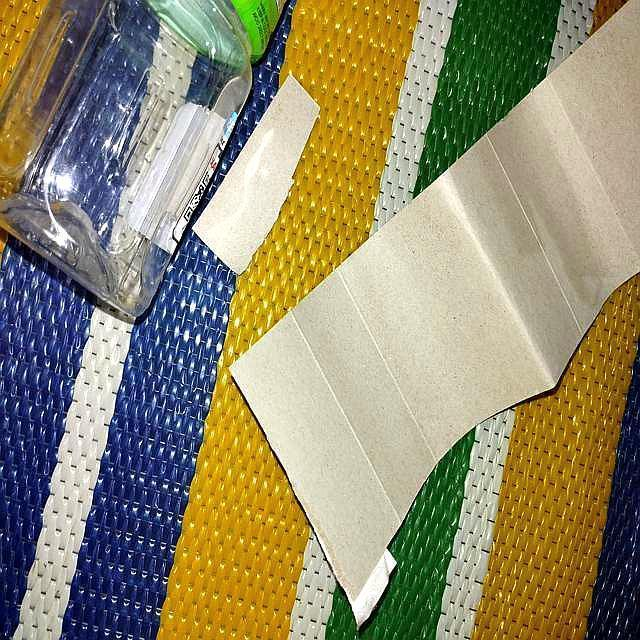Biodegradable: (224, 4, 640, 630), (196, 72, 332, 276)
